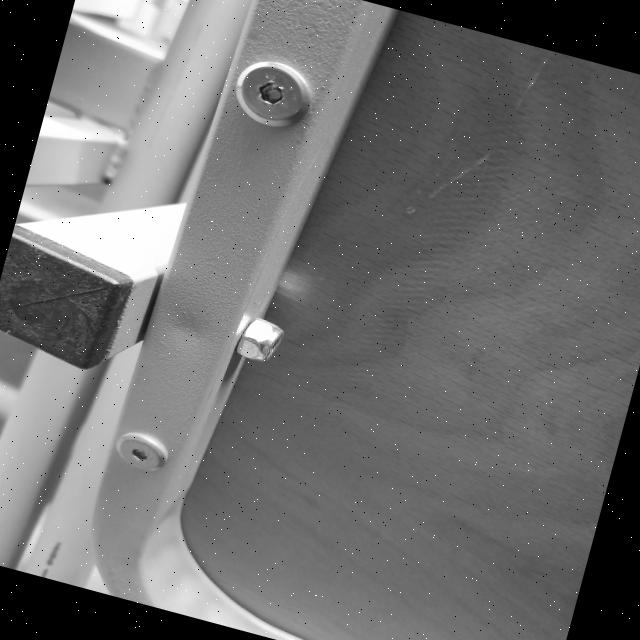Hex Socket Allen: (221, 48, 324, 136), (106, 423, 178, 479)
